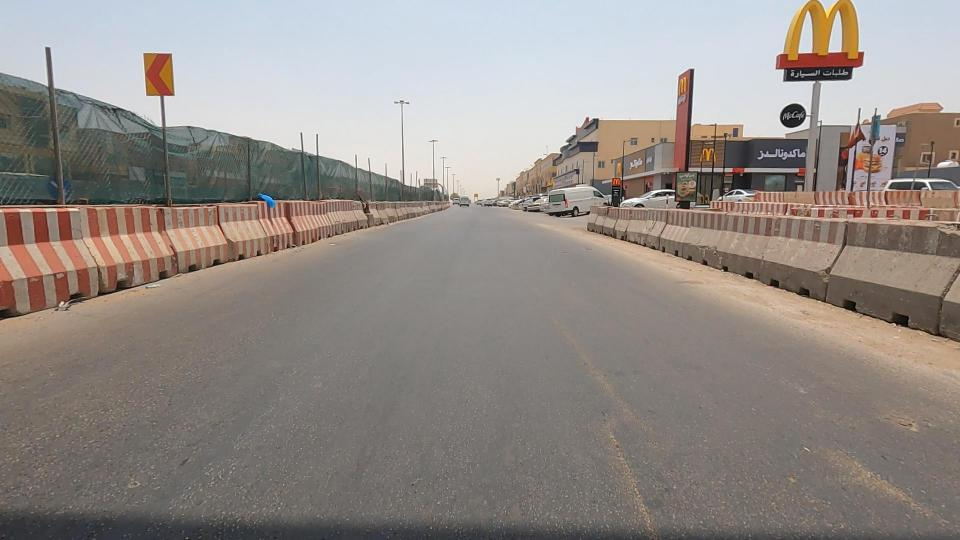CONSTRUCTION_ROAD: (0, 48, 305, 314), (173, 101, 379, 284), (292, 137, 462, 243)
GARBAGE: (227, 171, 310, 227)
